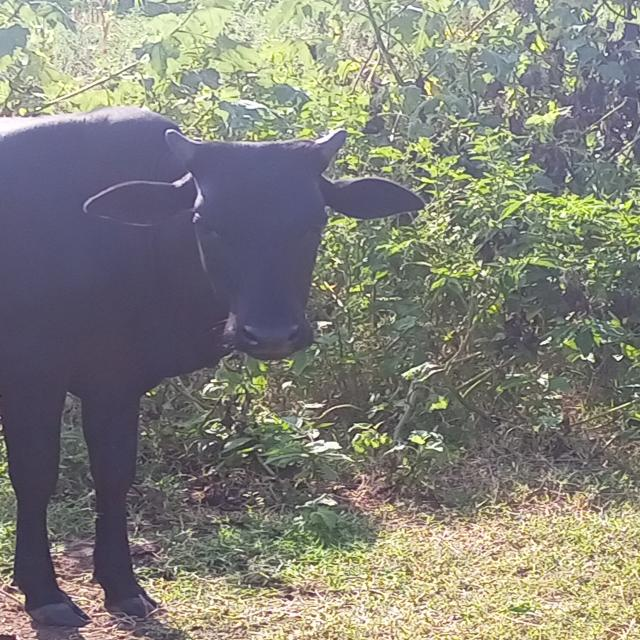cow: (0, 84, 456, 640)
